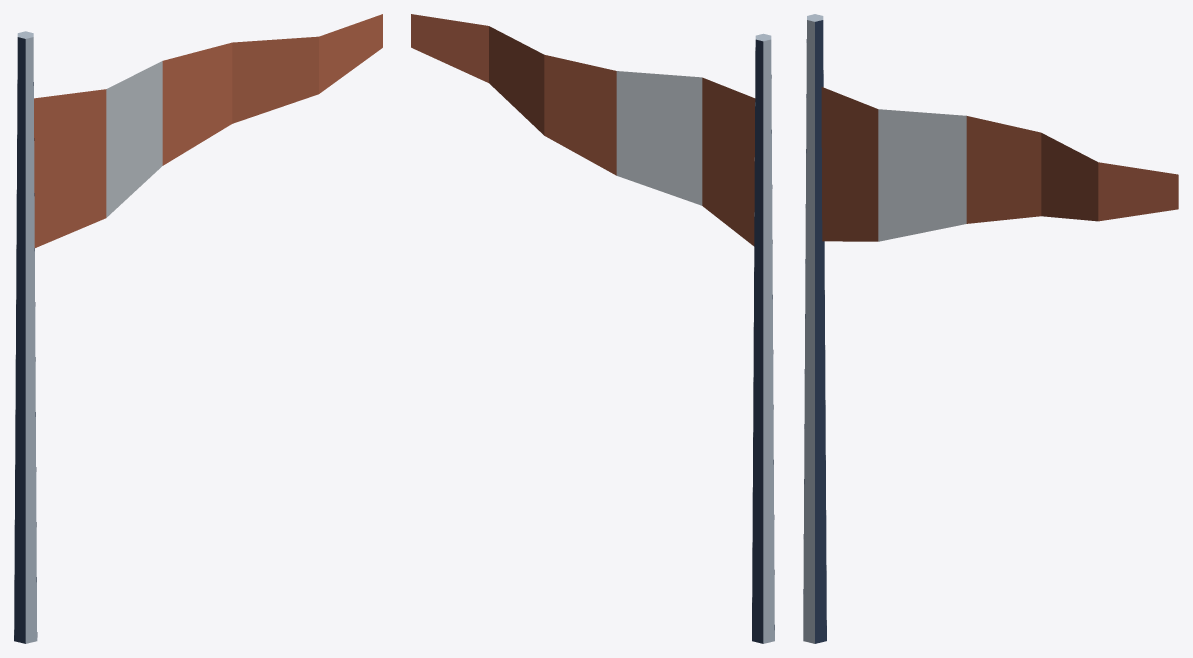
The model's file is ridge-flag.glb.
The picture shows the model from 3 angles, left to right: view 1: azimuth 30°, elevation 25°; view 2: azimuth 150°, elevation 25°; view 3: azimuth 330°, elevation 25°; orthographic projection. The views are drawn at different scales.
Visible parts, largest first — view 1: ridge-flag; view 2: ridge-flag; view 3: ridge-flag.
Part boxes in pixels (bbox=[...]): ridge-flag: bbox=[14, 14, 382, 643]; ridge-flag: bbox=[411, 14, 774, 643]; ridge-flag: bbox=[803, 14, 1178, 643].
Bounding box in the file's own units: 1.91 × 3 × 0.1467.
